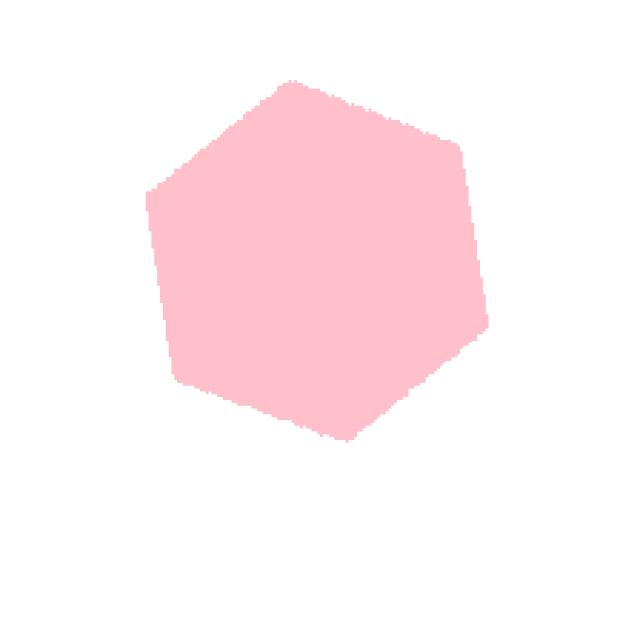Hexagon: (125, 46, 544, 490)
